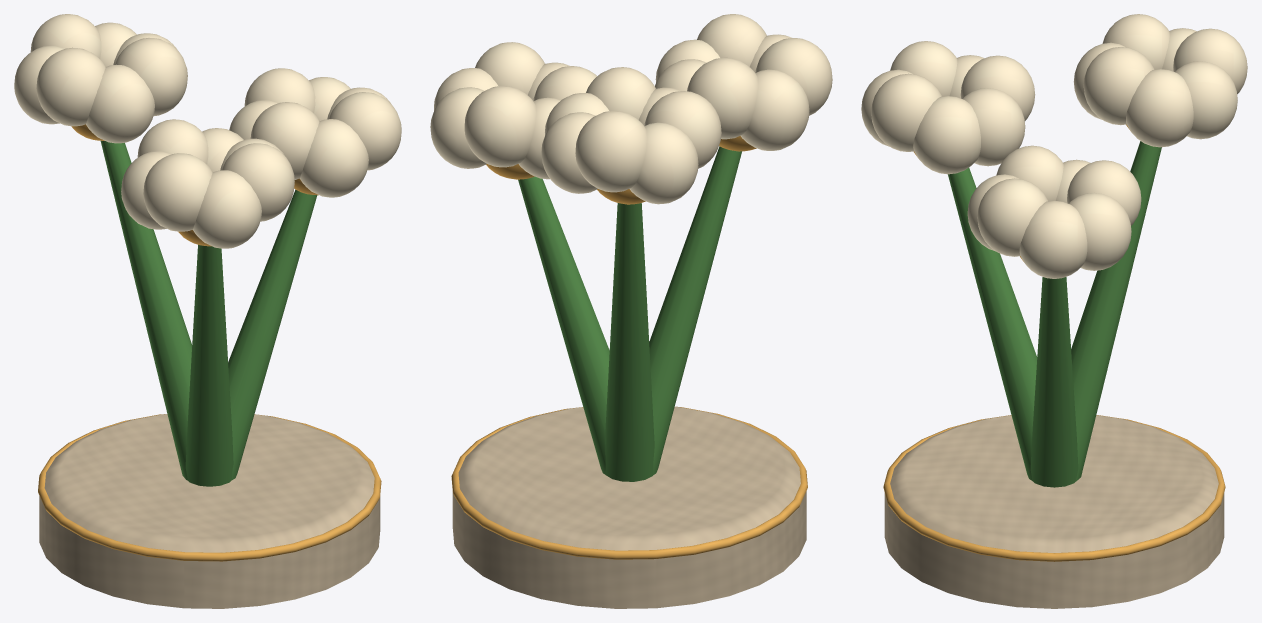
Rendered from jungle_emerald_3600.glb.
The picture shows the model from 3 angles, left to right: view 1: azimuth 30°, elevation 25°; view 2: azimuth 150°, elevation 25°; view 3: azimuth 270°, elevation 25°; orthographic projection. The views are drawn at different scales.
Parts seen in each view (by area): view 1: jungle_emerald_3600_lod0; view 2: jungle_emerald_3600_lod0; view 3: jungle_emerald_3600_lod0.
Boxes of the visible parts, box(x1,y1,x2,y2) form: jungle_emerald_3600_lod0: box(14, 14, 401, 608); jungle_emerald_3600_lod0: box(430, 14, 832, 608); jungle_emerald_3600_lod0: box(861, 14, 1247, 608).
Size of what is drawn, in the model's own units: 8.1 by 11.1 by 8.19.
4 materials, 4 textured.
